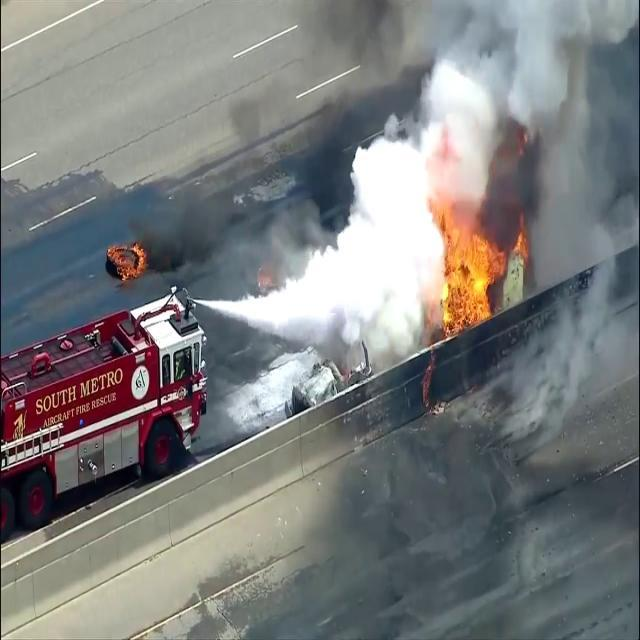Fire: (426, 196, 512, 336), (103, 237, 150, 284)
Smoke: (153, 0, 634, 300), (514, 242, 638, 464)
